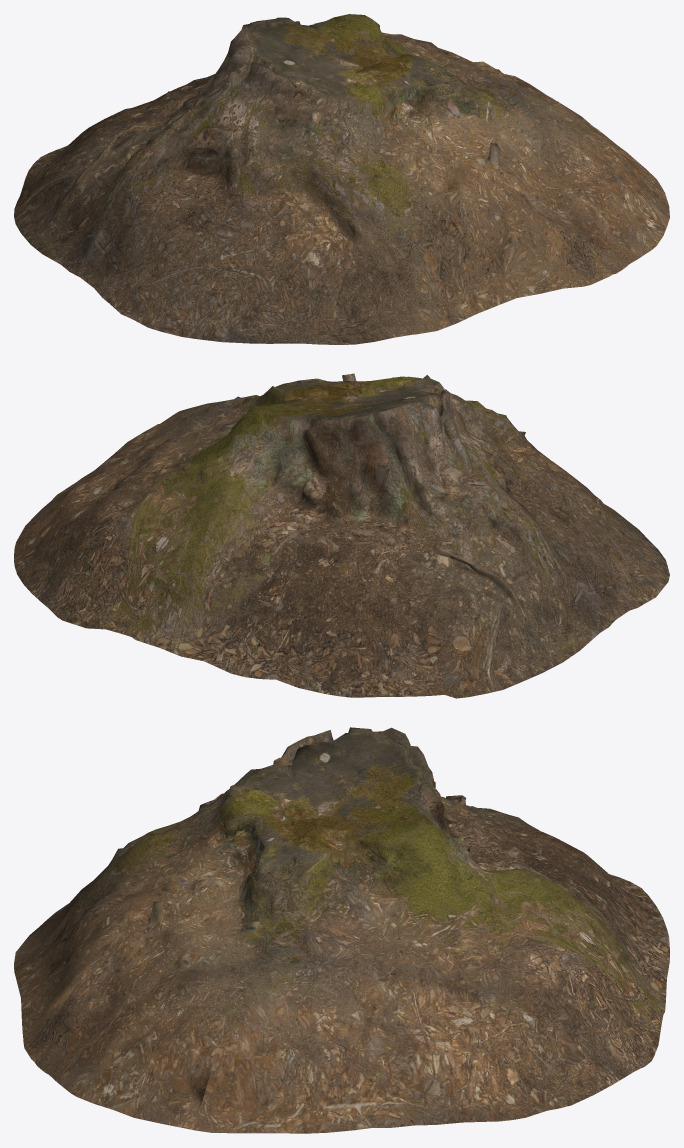
File: Scan_Stump02.fbx
3 views of the same model, one above another, from view 1: azimuth 30°, elevation 25°; view 2: azimuth 150°, elevation 25°; view 3: azimuth 270°, elevation 25° (orthographic). The views are drawn at different scales.
Parts seen in each view (by area): view 1: Scan_Stump02_LOD0; view 2: Scan_Stump02_LOD0; view 3: Scan_Stump02_LOD0.
Part boxes in pixels (x1,y1,x2,y2): Scan_Stump02_LOD0: [14, 14, 669, 344]; Scan_Stump02_LOD0: [14, 373, 669, 698]; Scan_Stump02_LOD0: [14, 727, 669, 1133].
Size of what is drawn, in the model's own units: 1.52 by 0.5224 by 1.39.
